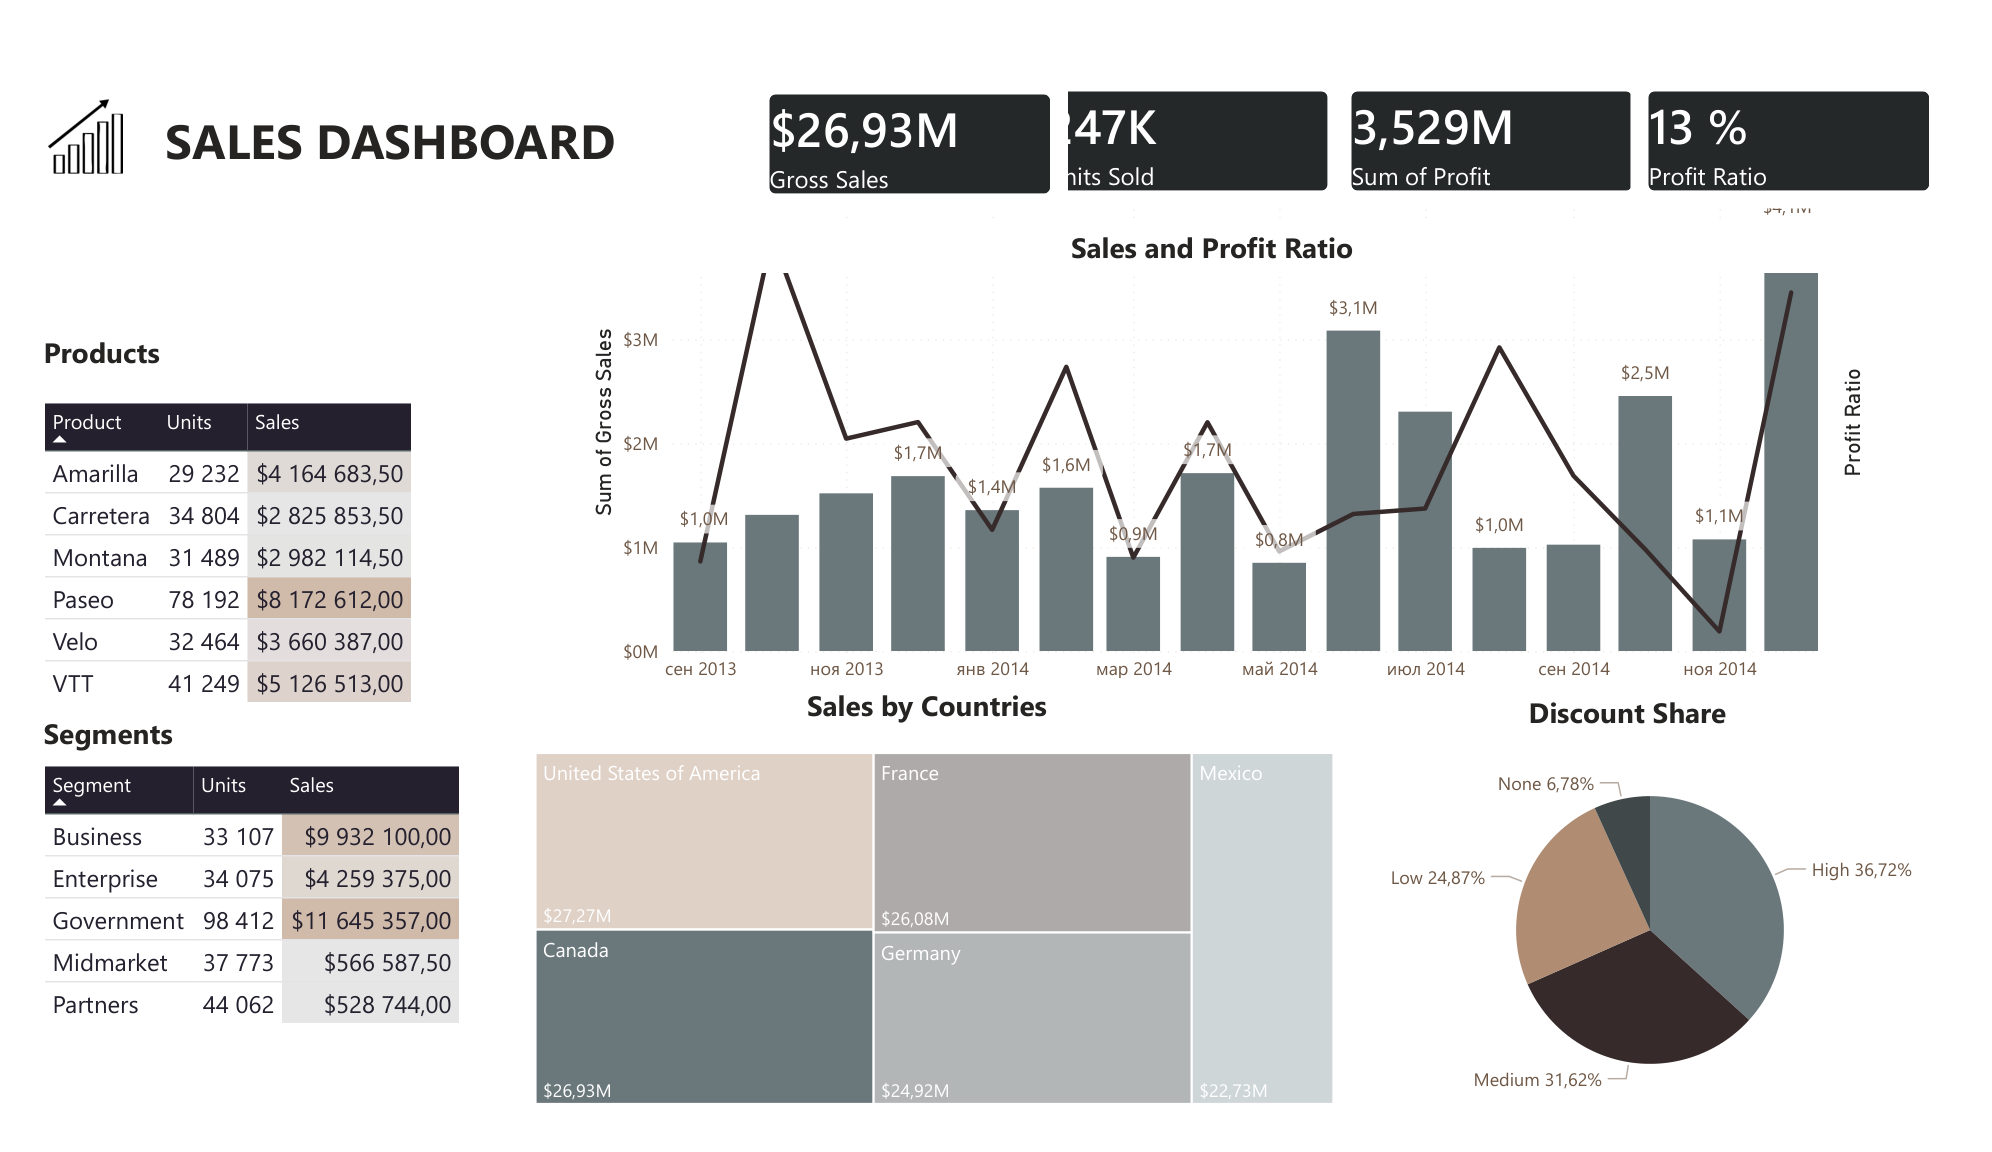

Layout of this report page (visuals, bound fields, positions):
{"tool":"powerbi","page":{"name":"Page 1","canvas":[1280,720],"ordinal":0},"visuals":[{"type":"cardVisual","fields":{"Data":["Sum(financials.Units Sold)"]},"box":[657,20.2,222,100.9],"z":0,"group":"g1"},{"type":"lineStackedColumnComboChart","fields":{"Category":["financials.Date"],"Y":["Sum(financials.Gross Sales)"],"Y2":["_calc.Profit Ratio"]},"box":[364.5,90.7,858.4,349.4],"z":0},{"type":"group","id":"g1","title":"Group 1","box":[472,20.2,808,102.5],"z":1000},{"type":"cardVisual","fields":{"Data":["Sum(financials.Gross Sales)"]},"box":[472,21.8,222,100.9],"z":1000,"group":"g1"},{"type":"cardVisual","fields":{"Data":["Sum(financials.Profit)"]},"box":[859.7,20.2,222,100.9],"z":2000,"group":"g1"},{"type":"tableEx","fields":{"Values":["financials.Product","Sum(financials.Units Sold)","Sum(financials.Gross Sales)"]},"box":[0,240.2,257,213.3],"z":2000},{"type":"cardVisual","fields":{"Data":["_calc.Profit Ratio"]},"box":[1058,20.2,222,100.9],"z":3000,"group":"g1"},{"type":"tableEx","fields":{"Values":["financials.Segment","Sum(financials.Units Sold)","Sum(financials.Gross Sales)"]},"box":[0,482.1,297.3,215],"z":3000},{"type":"treemap","fields":{"Group":["financials.Country"],"Values":["Sum(financials.Gross Sales)"]},"box":[327.6,473.4,542.6,243.6],"z":3001},{"type":"pieChart","fields":{"Category":["financials.Discount Band"],"Y":["Sum(financials.Gross Sales)"]},"box":[871.8,473.4,408.2,245.2],"z":3002},{"type":"textbox","box":[80.6,42,391.4,84],"z":3003},{"type":"image","box":[0,42,65.5,50.4],"z":3004},{"type":"textbox","box":[0,193.2,109.2,35.3],"z":3005},{"type":"textbox","box":[0,446.8,109.2,35.3],"z":3006},{"type":"textbox","box":[364.5,122.6,838.2,35.3],"z":3007},{"type":"textbox","box":[327.6,428.3,532.5,45.4],"z":3008},{"type":"textbox","box":[861.7,433.4,398.1,40.3],"z":3009}]}

Visuals, with their boxes in screenshot pixels (x1, y1, x2, y2), scaled from the page's 1280x720 canvas onto the 1992x1152 screenshot:
cardVisual - Sum(financials.Units Sold): box=[1022, 32, 1368, 194]
lineStackedColumnComboChart - financials.Date x Sum(financials.Gross Sales): box=[567, 145, 1903, 704]
"Group 1" group: box=[735, 32, 1991, 196]
cardVisual - Sum(financials.Gross Sales): box=[735, 35, 1080, 196]
cardVisual - Sum(financials.Profit): box=[1338, 32, 1683, 194]
tableEx - financials.Product x Sum(financials.Units Sold): box=[0, 384, 400, 726]
cardVisual - _calc.Profit Ratio: box=[1647, 32, 1991, 194]
tableEx - financials.Segment x Sum(financials.Units Sold): box=[0, 771, 463, 1115]
treemap - financials.Country x Sum(financials.Gross Sales): box=[510, 757, 1354, 1147]
pieChart - financials.Discount Band x Sum(financials.Gross Sales): box=[1357, 757, 1991, 1150]
textbox: box=[125, 67, 735, 202]
image: box=[0, 67, 102, 148]
textbox: box=[0, 309, 170, 366]
textbox: box=[0, 715, 170, 771]
textbox: box=[567, 196, 1872, 253]
textbox: box=[510, 685, 1339, 758]
textbox: box=[1341, 693, 1961, 758]
